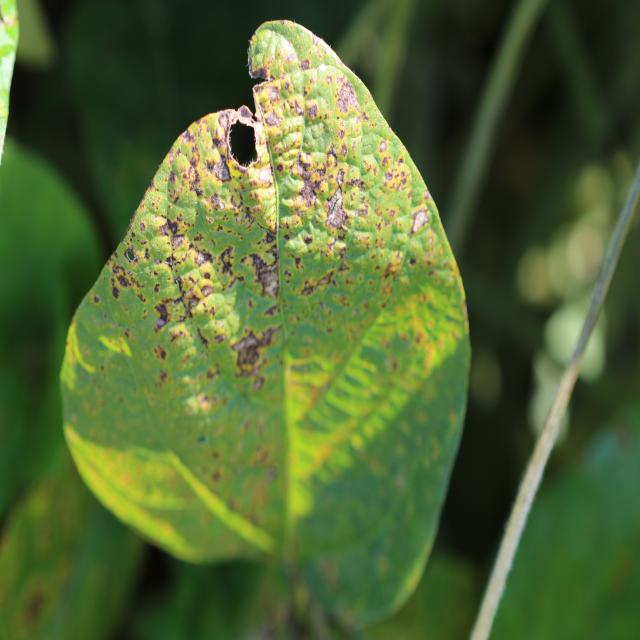Bacterial_Blight: (250, 285, 288, 361), (327, 176, 359, 244), (249, 252, 281, 299), (157, 287, 190, 327), (299, 270, 336, 297), (335, 80, 360, 115), (297, 175, 321, 208), (23, 588, 46, 622), (409, 208, 430, 236), (211, 158, 231, 183), (218, 246, 235, 275), (154, 302, 171, 327), (248, 61, 268, 81), (294, 158, 313, 179), (165, 217, 182, 236), (217, 109, 233, 129), (168, 180, 181, 204), (264, 110, 281, 128), (382, 262, 399, 280), (266, 84, 282, 103), (258, 165, 273, 185), (194, 249, 210, 267), (238, 105, 254, 122), (116, 272, 132, 289), (171, 232, 186, 250), (211, 193, 226, 211), (197, 327, 210, 347), (301, 280, 315, 296), (199, 284, 214, 298), (326, 144, 338, 161), (155, 345, 167, 361), (264, 229, 277, 243), (206, 366, 219, 380), (165, 255, 175, 272), (125, 247, 136, 262), (307, 104, 318, 119), (158, 221, 169, 236), (336, 168, 345, 186), (111, 284, 120, 299), (293, 255, 302, 270), (212, 136, 223, 148), (212, 468, 221, 482), (300, 58, 310, 70), (169, 170, 177, 184), (340, 143, 348, 157), (247, 57, 254, 72), (303, 235, 313, 245), (195, 186, 204, 197), (384, 171, 393, 182), (137, 292, 146, 303), (379, 140, 387, 152), (424, 189, 432, 201), (408, 257, 417, 266), (139, 221, 146, 232), (153, 283, 160, 294), (144, 248, 150, 260), (277, 163, 284, 172), (93, 295, 99, 304)
Soybean: (58, 20, 472, 640)
